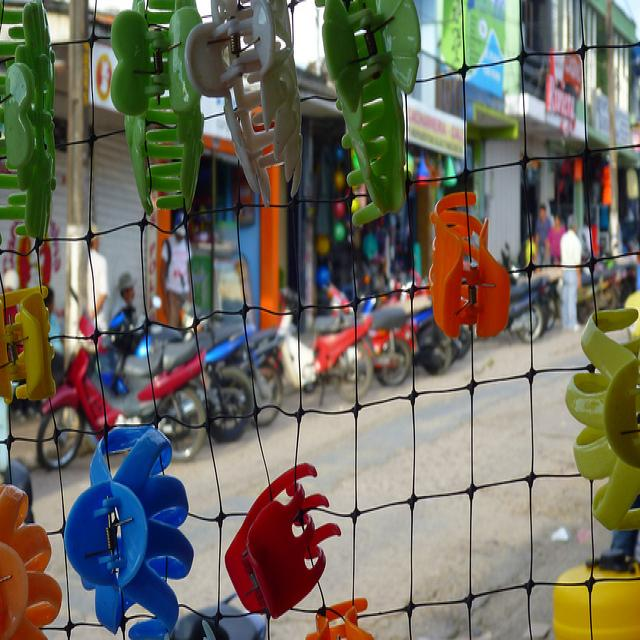motor: (38, 286, 209, 468), (107, 324, 282, 426), (137, 325, 266, 440), (278, 285, 377, 400), (318, 272, 414, 389), (383, 292, 454, 376), (509, 275, 546, 349)
